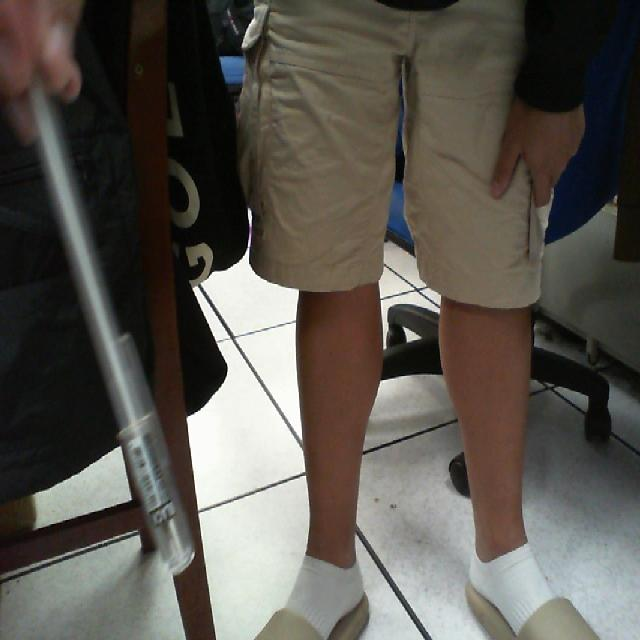Pen: (0, 42, 229, 618)
